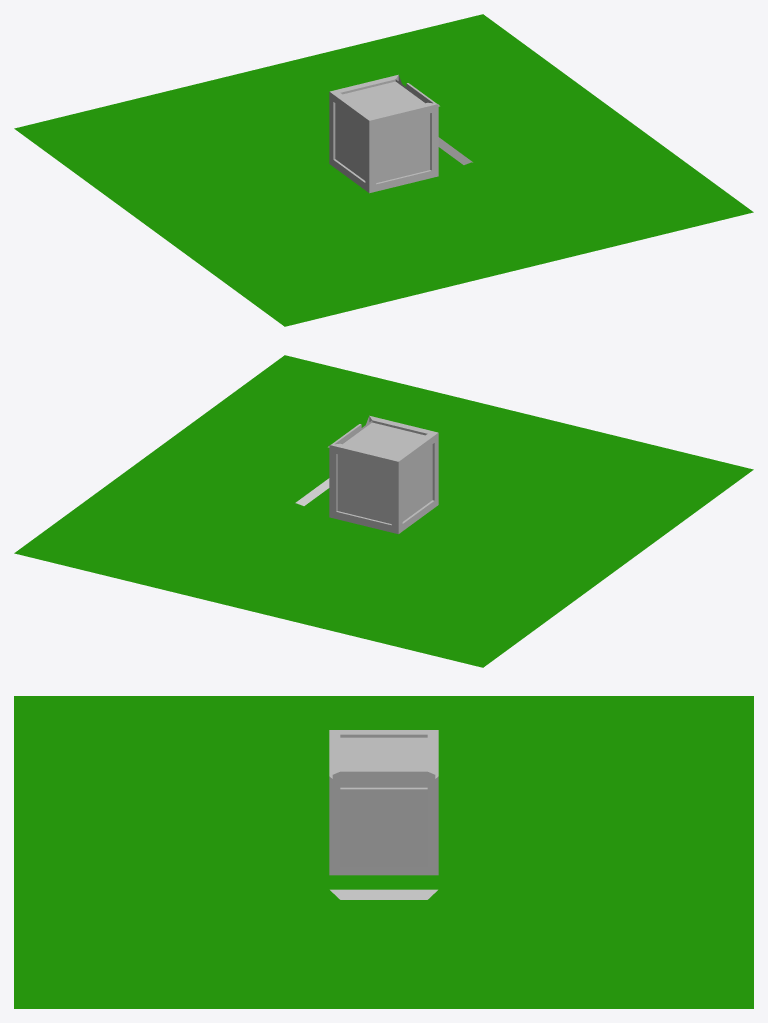
File: caixa_000075.obj
3 renders of one model, top to bottom at view 1: azimuth 30°, elevation 25°; view 2: azimuth 150°, elevation 25°; view 3: azimuth 270°, elevation 25°, orthographic. The views are drawn at different scales.
Visible parts, largest first — view 1: Plane, Cube_Cube.003; view 2: Plane, Cube_Cube.003; view 3: Plane, Cube_Cube.003, Cube.002_Cube.001, Cube.001_Cube.000.
Boxes of the visible parts, x1,y1,x2,y2 form: Plane: [14, 14, 753, 326]; Cube_Cube.003: [329, 74, 438, 193]; Plane: [14, 355, 753, 667]; Cube_Cube.003: [329, 415, 438, 534]; Plane: [14, 696, 753, 1008]; Cube_Cube.003: [329, 730, 438, 875]; Cube.002_Cube.001: [340, 787, 427, 866]; Cube.001_Cube.000: [330, 889, 437, 899].
Bounding box in the file's own units: 13.55 × 2.01 × 13.55.
